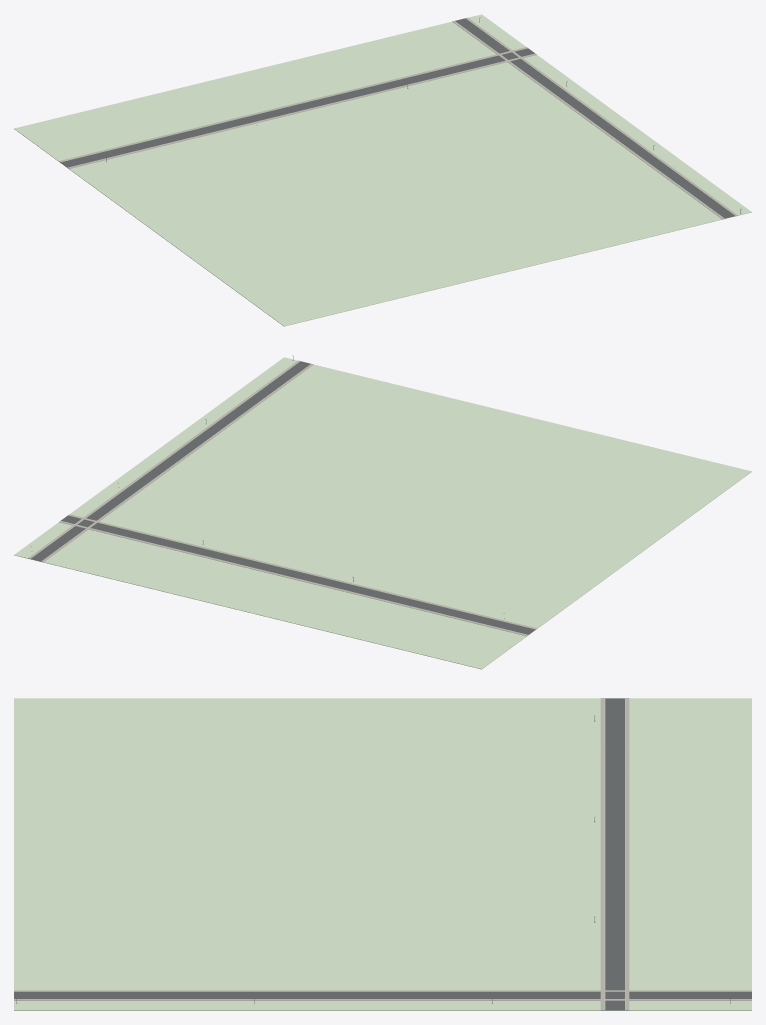
The model's file is chunk_5_4_high.glb.
3 views of the same model, one above another, from view 1: azimuth 30°, elevation 25°; view 2: azimuth 150°, elevation 25°; view 3: azimuth 270°, elevation 25° (orthographic). The views are drawn at different scales.
Parts seen in each view (by area): view 1: city_grass, city_world_asphalt, city_world_sidewalk, city_curb; view 2: city_grass, city_world_asphalt, city_world_sidewalk, city_curb; view 3: city_grass, city_world_asphalt, city_world_sidewalk, city_curb.
Part boxes in pixels (box(x1,y1,x2,y2)): city_grass: box(14, 14, 751, 326); city_world_asphalt: box(60, 18, 734, 218); city_world_sidewalk: box(59, 17, 737, 219); city_curb: box(60, 18, 735, 218); city_grass: box(14, 357, 751, 669); city_world_asphalt: box(31, 361, 535, 634); city_world_sidewalk: box(28, 360, 536, 636); city_curb: box(30, 361, 535, 634); city_grass: box(14, 698, 751, 1010); city_world_asphalt: box(14, 698, 751, 1010); city_world_sidewalk: box(14, 698, 751, 1010); city_curb: box(14, 698, 751, 1009).
Size of the model in its own units: 512 by 5.41 by 512.
